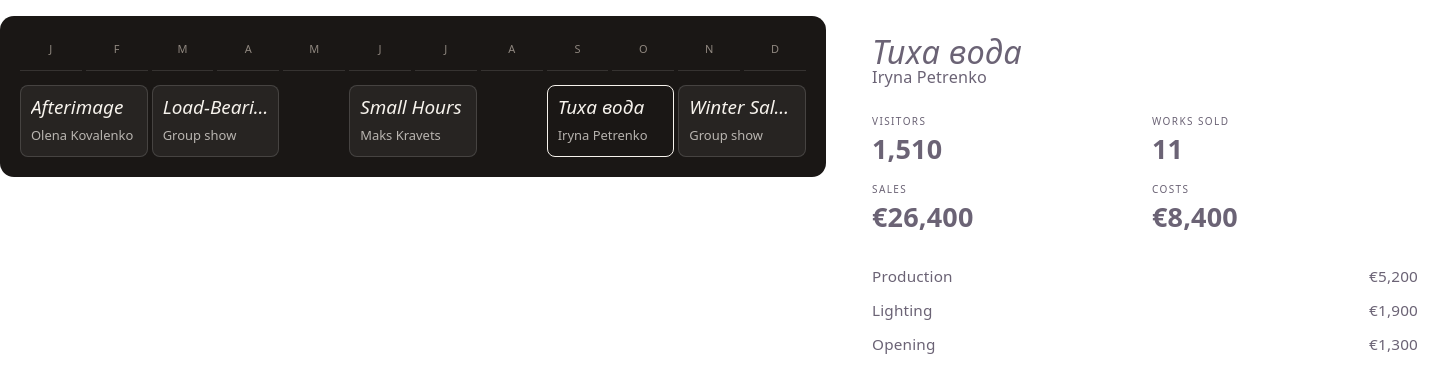
Test: audience page demos › season planner: choosing a show opens its figures
The image size is (1434, 371).
Click the button "Small Hours Maks Kravets" at (413, 121), box [349,85,477,157]
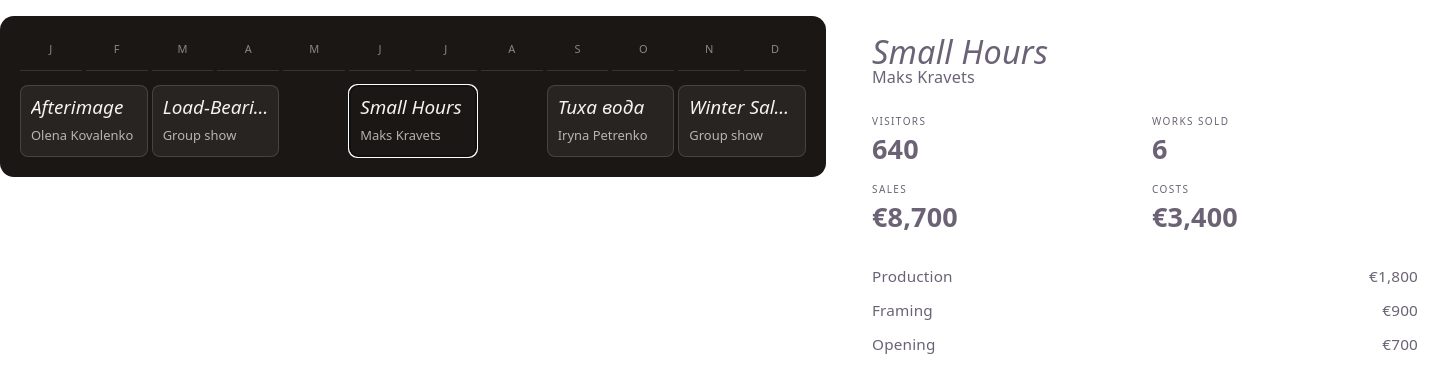
Check: the text "640" is shown, box [872,130,919,167]
Check: the text "€8,700" is shown, box [872,198,958,236]
